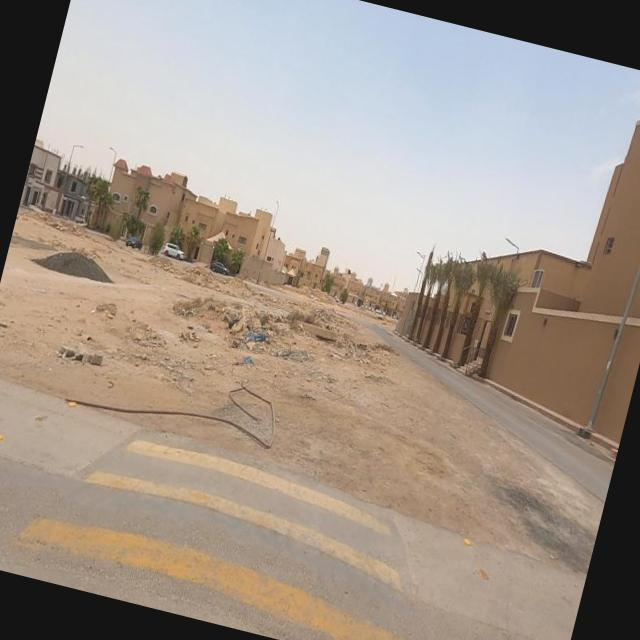debris: (150, 332, 349, 515), (212, 290, 297, 382), (200, 282, 262, 361), (217, 328, 270, 393)
